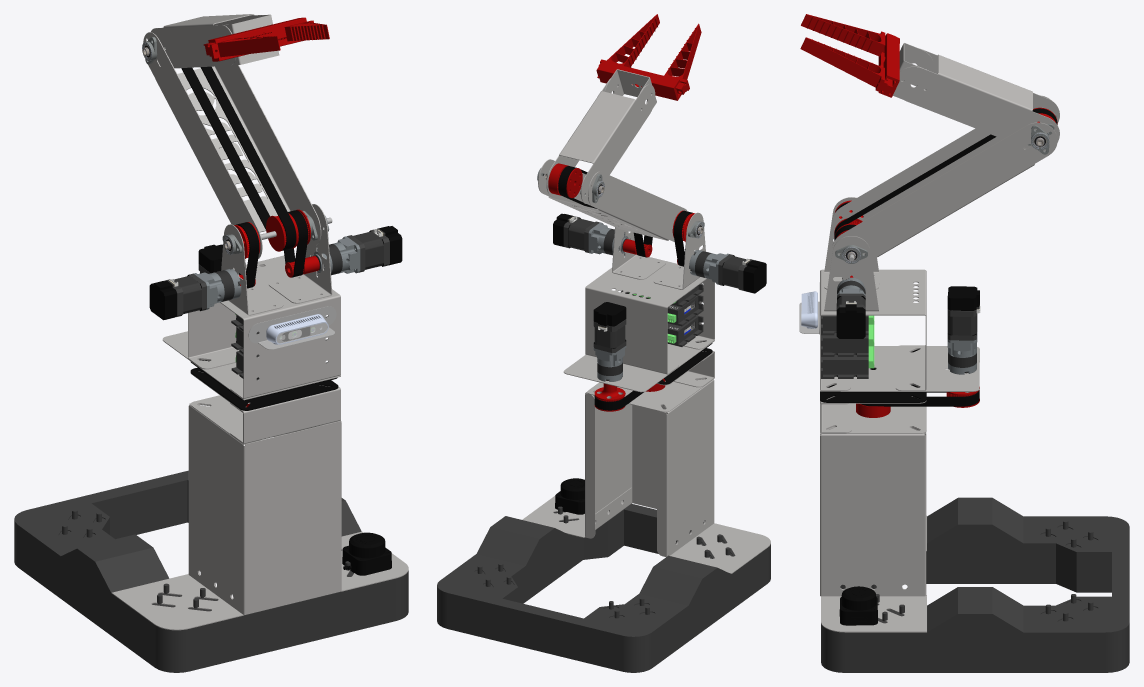
The picture shows the model from 3 angles, left to right: view 1: azimuth 30°, elevation 25°; view 2: azimuth 150°, elevation 25°; view 3: azimuth 270°, elevation 25°; orthographic projection. The views are drawn at different scales.
Parts seen in each view (by area): view 1: Sólido1 (×3); view 2: Sólido1 (×3); view 3: Sólido1 (×3).
Boxes of the visible parts, <box> form: Sólido1 (×3): <box>14,14,408,672</box>; Sólido1 (×3): <box>437,14,770,672</box>; Sólido1 (×3): <box>799,14,1129,672</box>.
Bounding box in the file's own units: 0.4 × 0.9477 × 0.4805.
6 materials, 3 textured.
